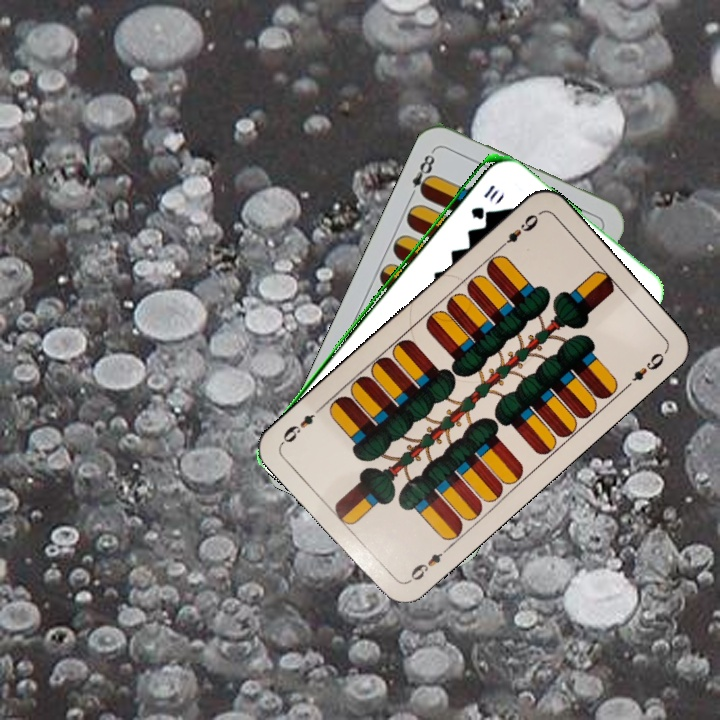E8: (405, 146, 438, 202)
E9: (403, 542, 453, 586), (494, 210, 542, 252)
G10: (467, 180, 501, 221)
